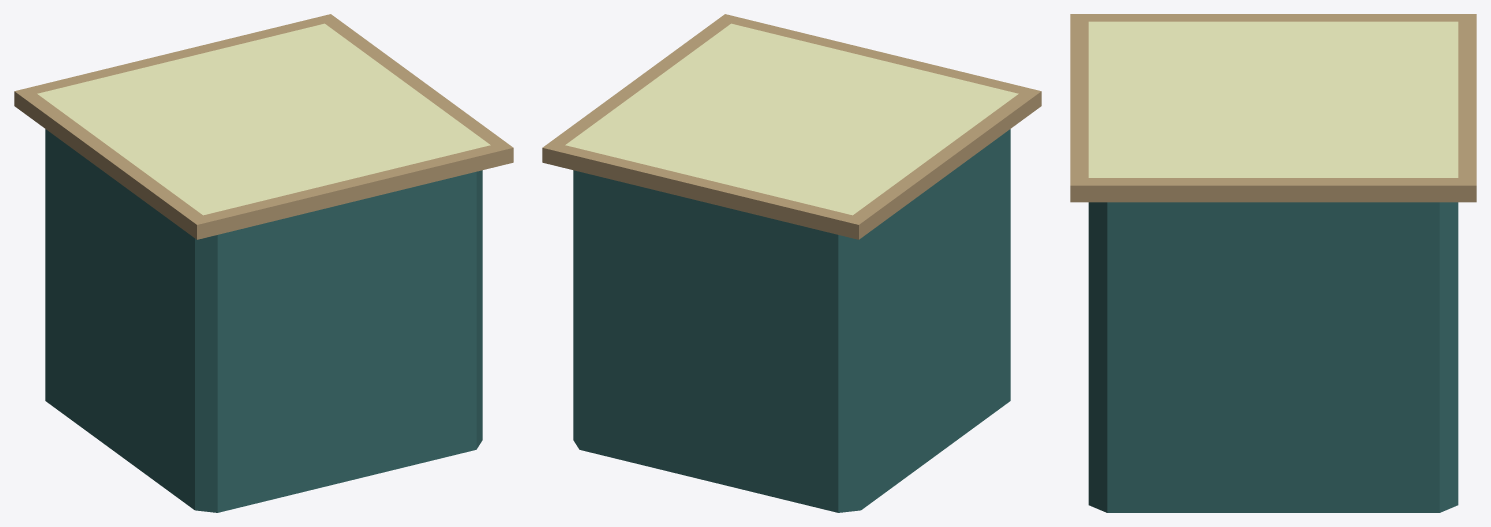
Rendered from ModuloBase02.fbx.
The picture shows the model from 3 angles, left to right: view 1: azimuth 30°, elevation 25°; view 2: azimuth 150°, elevation 25°; view 3: azimuth 270°, elevation 25°; orthographic projection. The views are drawn at different scales.
Parts seen in each view (by area): view 1: Cube.222; view 2: Cube.222; view 3: Cube.222.
Part boxes in pixels (left/top/right/bottom): Cube.222: left=14, top=14, right=513, bottom=512; Cube.222: left=542, top=14, right=1041, bottom=512; Cube.222: left=1070, top=14, right=1476, bottom=512.
Size of the model in its own units: 220 by 200 by 220.
